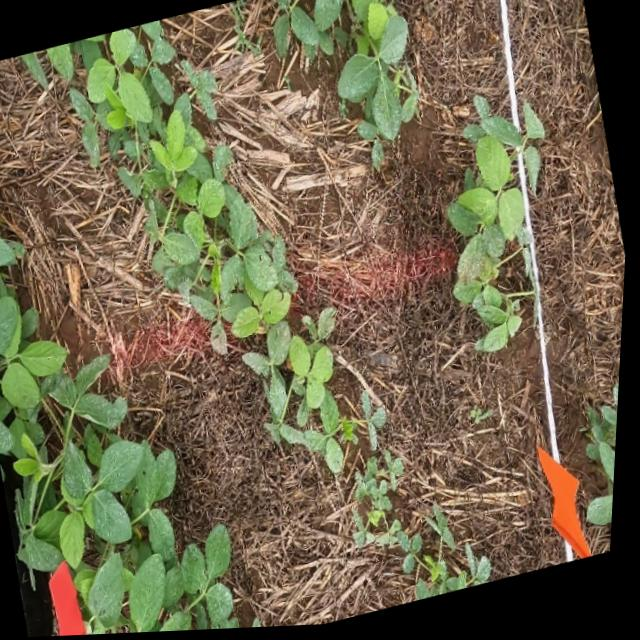soy_plant: (22, 21, 495, 604), (0, 233, 248, 636), (450, 102, 546, 356), (273, 0, 418, 168), (593, 393, 623, 530)
